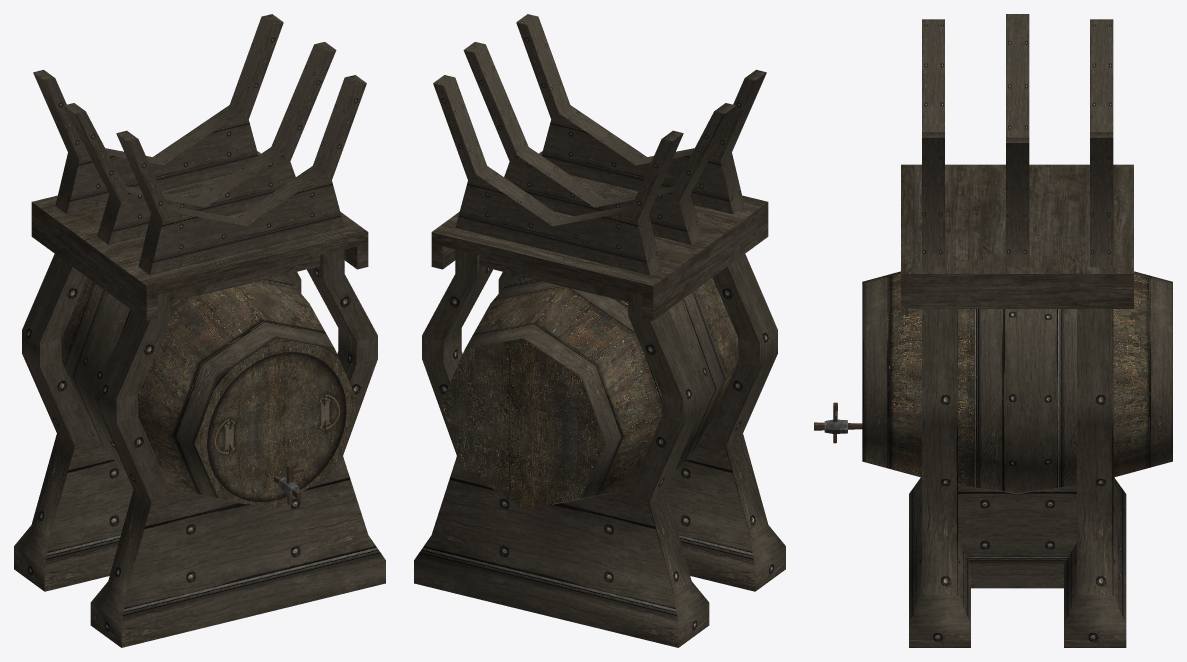
The model's file is Keg Houses.fbx.
3 views of the same model, side by side, from view 1: azimuth 30°, elevation 25°; view 2: azimuth 150°, elevation 25°; view 3: azimuth 270°, elevation 25° (orthographic).
Parts seen in each view (by area): view 1: Keg_Holder_Bottom, Barrel, Keg_Holder_Top, Middle_Platform, Bar_Support_Middle; view 2: Keg_Holder_Bottom, Barrel, Keg_Holder_Top, Middle_Platform, Bar_Support_Middle; view 3: Barrel, Keg_Holder_Bottom, Middle_Platform, Keg_Holder_Top, Bar_Support_Bottom.
Part boxes in pixels (x1,y1,x2,y2): Keg_Holder_Bottom: [14, 249, 385, 647]; Barrel: [61, 275, 358, 509]; Keg_Holder_Top: [33, 14, 366, 275]; Middle_Platform: [31, 151, 368, 320]; Bar_Support_Middle: [171, 255, 320, 302]; Keg_Holder_Bottom: [414, 249, 785, 647]; Barrel: [441, 275, 738, 509]; Keg_Holder_Top: [433, 14, 766, 275]; Middle_Platform: [431, 151, 768, 320]; Bar_Support_Middle: [479, 255, 628, 302]; Barrel: [862, 271, 1172, 493]; Keg_Holder_Bottom: [909, 309, 1126, 647]; Middle_Platform: [901, 164, 1133, 308]; Keg_Holder_Top: [922, 14, 1113, 267]; Bar_Support_Bottom: [958, 485, 1076, 588].
Bounding box in the file's own units: 119 × 215 × 139.
